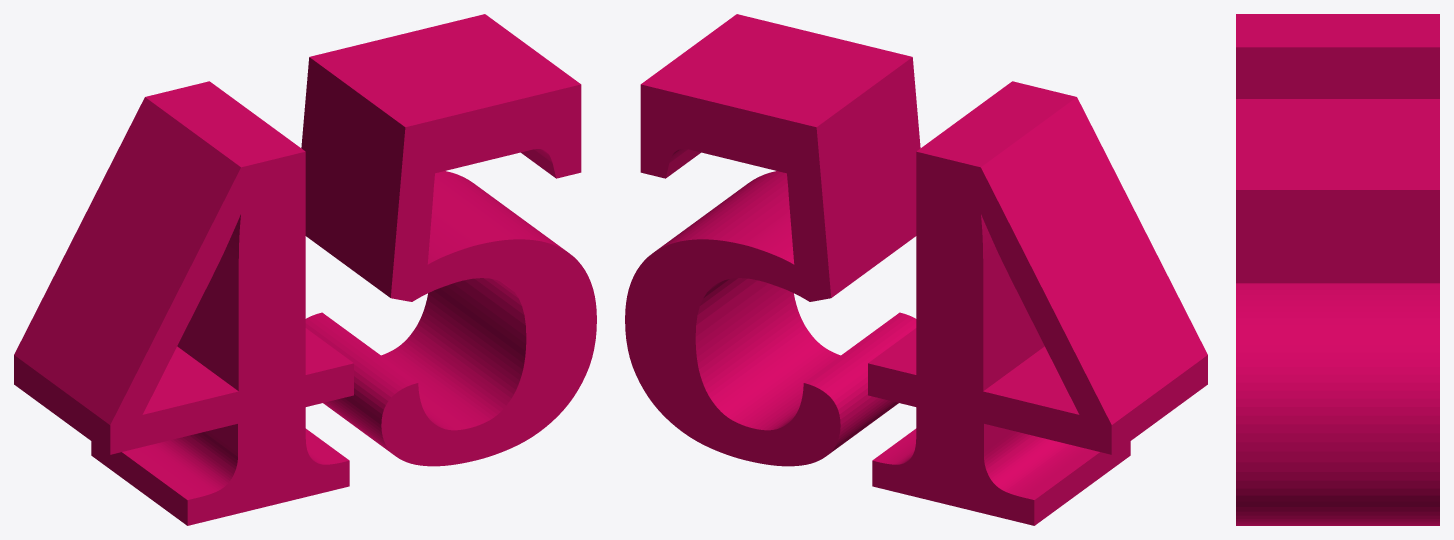
File: number45.glb
The picture shows the model from 3 angles, left to right: view 1: azimuth 30°, elevation 25°; view 2: azimuth 150°, elevation 25°; view 3: azimuth 270°, elevation 25°; orthographic projection. The views are drawn at different scales.
Parts seen in each view (by area): view 1: Mesh_Mesh_head_geo.001_lambert2SG.001; view 2: Mesh_Mesh_head_geo.001_lambert2SG.001; view 3: Mesh_Mesh_head_geo.001_lambert2SG.001.
Part boxes in pixels (x1,y1,x2,y2): Mesh_Mesh_head_geo.001_lambert2SG.001: (14,14,596,525); Mesh_Mesh_head_geo.001_lambert2SG.001: (625,14,1207,525); Mesh_Mesh_head_geo.001_lambert2SG.001: (1236,14,1439,525).
Bounding box in the file's own units: 29.22 × 20.1 × 10.
